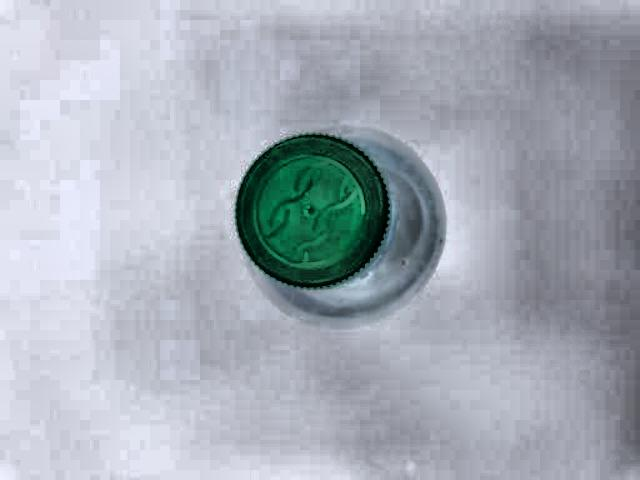Bottles: (238, 129, 448, 314)
